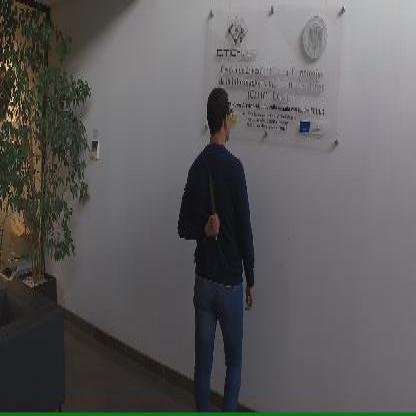knife: (206, 168, 219, 237)
